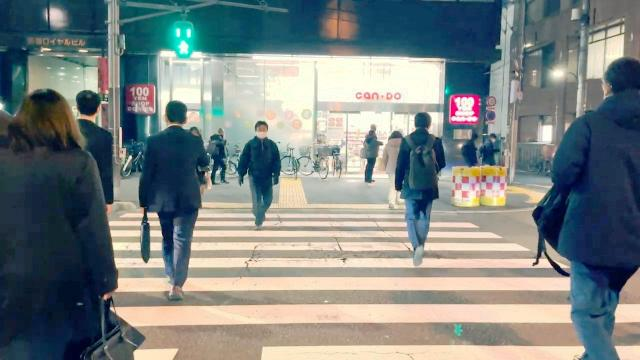berjalan: (541, 50, 639, 360), (132, 99, 212, 311), (392, 105, 444, 274), (231, 118, 287, 230)
